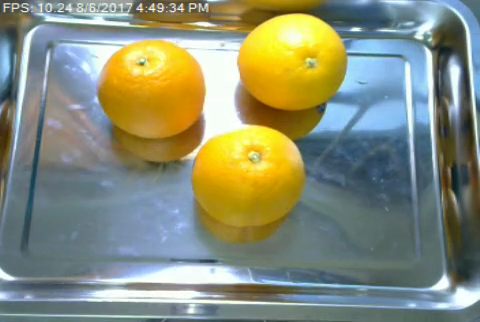Orange: (191, 126, 308, 227), (96, 39, 204, 139), (237, 13, 348, 110)
